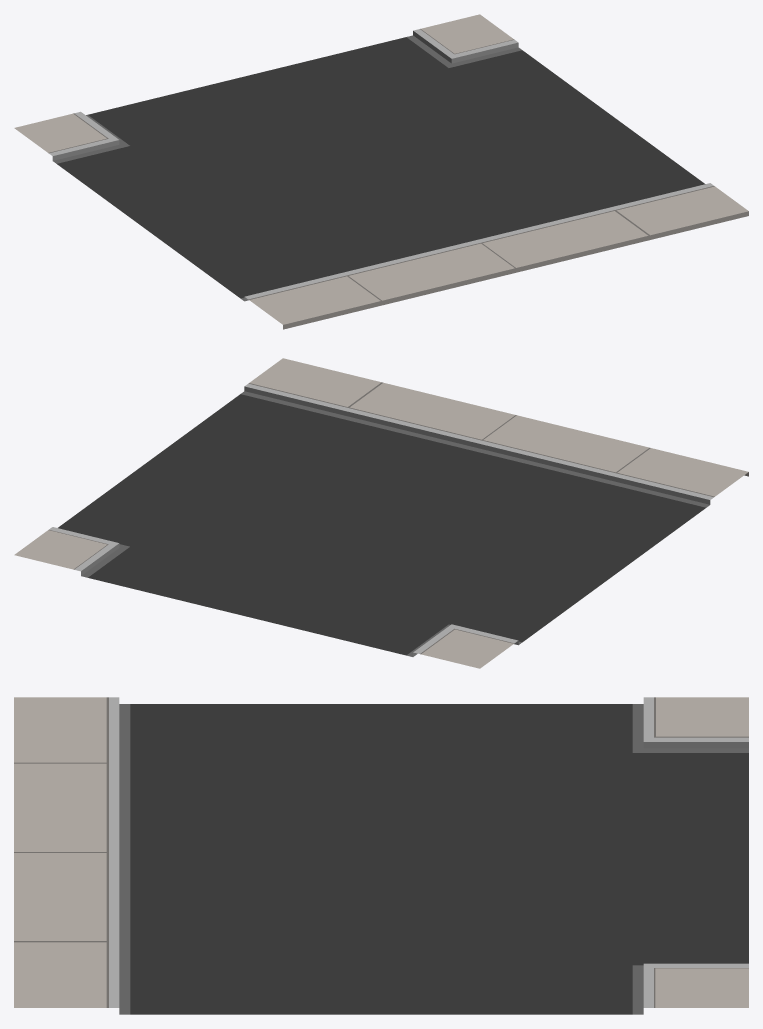
Rendered from SA_Env_Road_T_01.gltf.
The picture shows the model from 3 angles, top to bottom: view 1: azimuth 30°, elevation 25°; view 2: azimuth 150°, elevation 25°; view 3: azimuth 270°, elevation 25°; orthographic projection. The views are drawn at different scales.
Visible parts, largest first — view 1: SA_Env_Road_T_01; view 2: SA_Env_Road_T_01; view 3: SA_Env_Road_T_01.
Boxes of the visible parts, bbox=[...] form: SA_Env_Road_T_01: bbox=[14, 14, 748, 329]; SA_Env_Road_T_01: bbox=[14, 358, 748, 668]; SA_Env_Road_T_01: bbox=[14, 697, 748, 1014].
Size of the model in its own units: 20 by 0.1948 by 20.
1 material, 1 textured.
